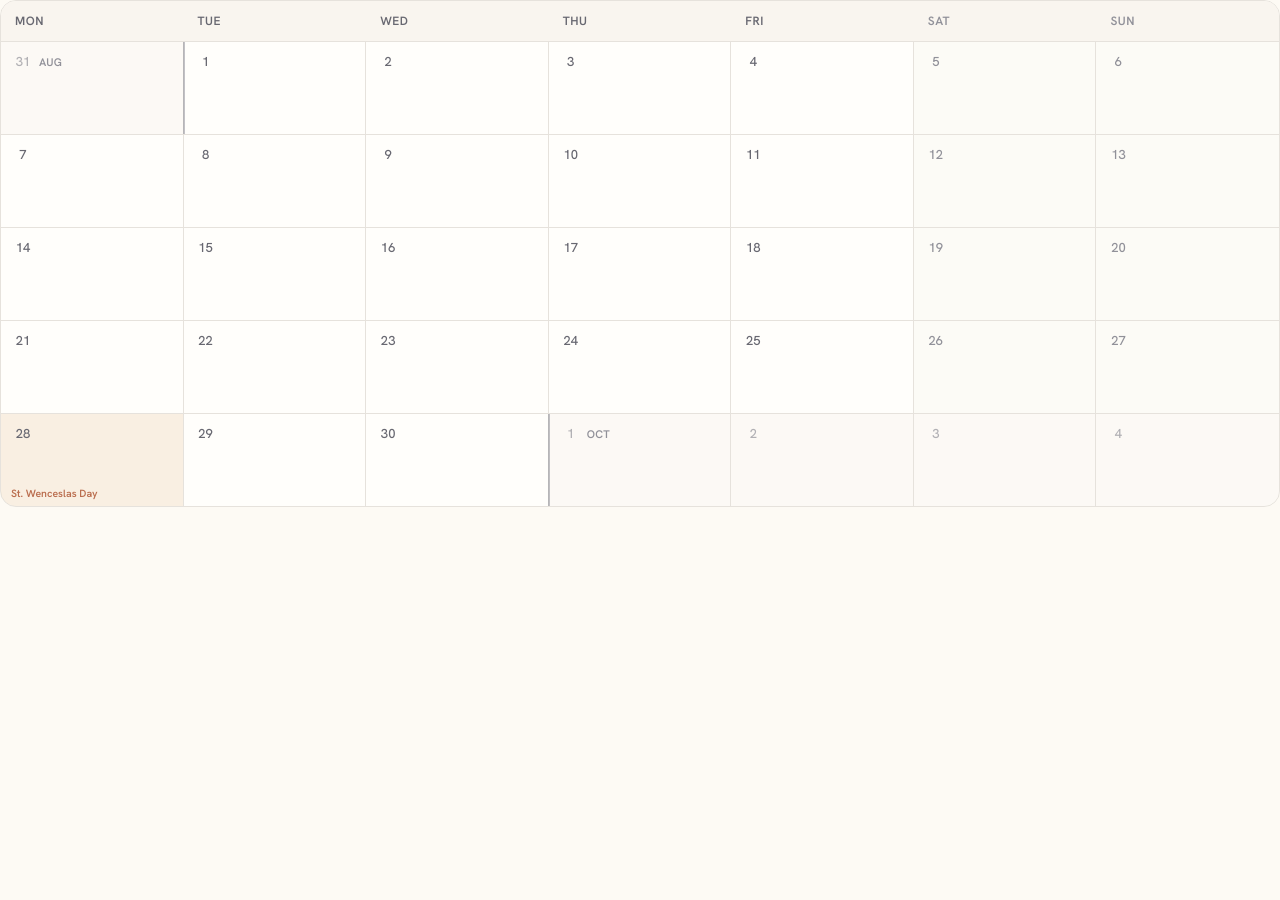
Test case: StripeCalendar › tints a bank holiday and lists it first in the day list
Expected: the text "St. Wenceslas Day" is shown, [11,486,98,502]
Click the button with aria-label "28 September, St. Wenceslas Day" at (92, 460), box [1,414,184,506]
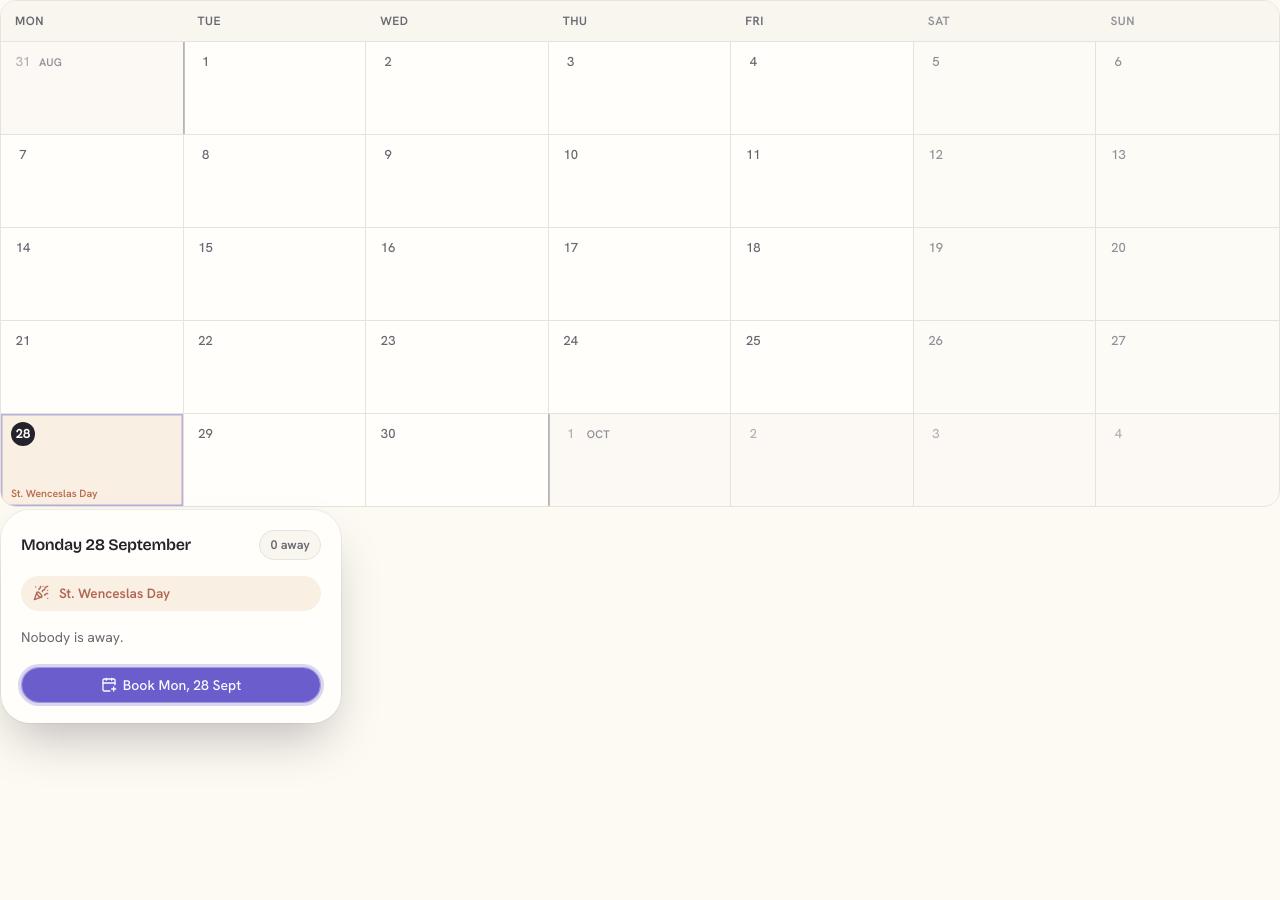
Now the text "St. Wenceslas Day" below "Monday 28 September" is shown, box [59,584,170,602]
Now the text "0 away" is shown, box [259,530,321,560]
